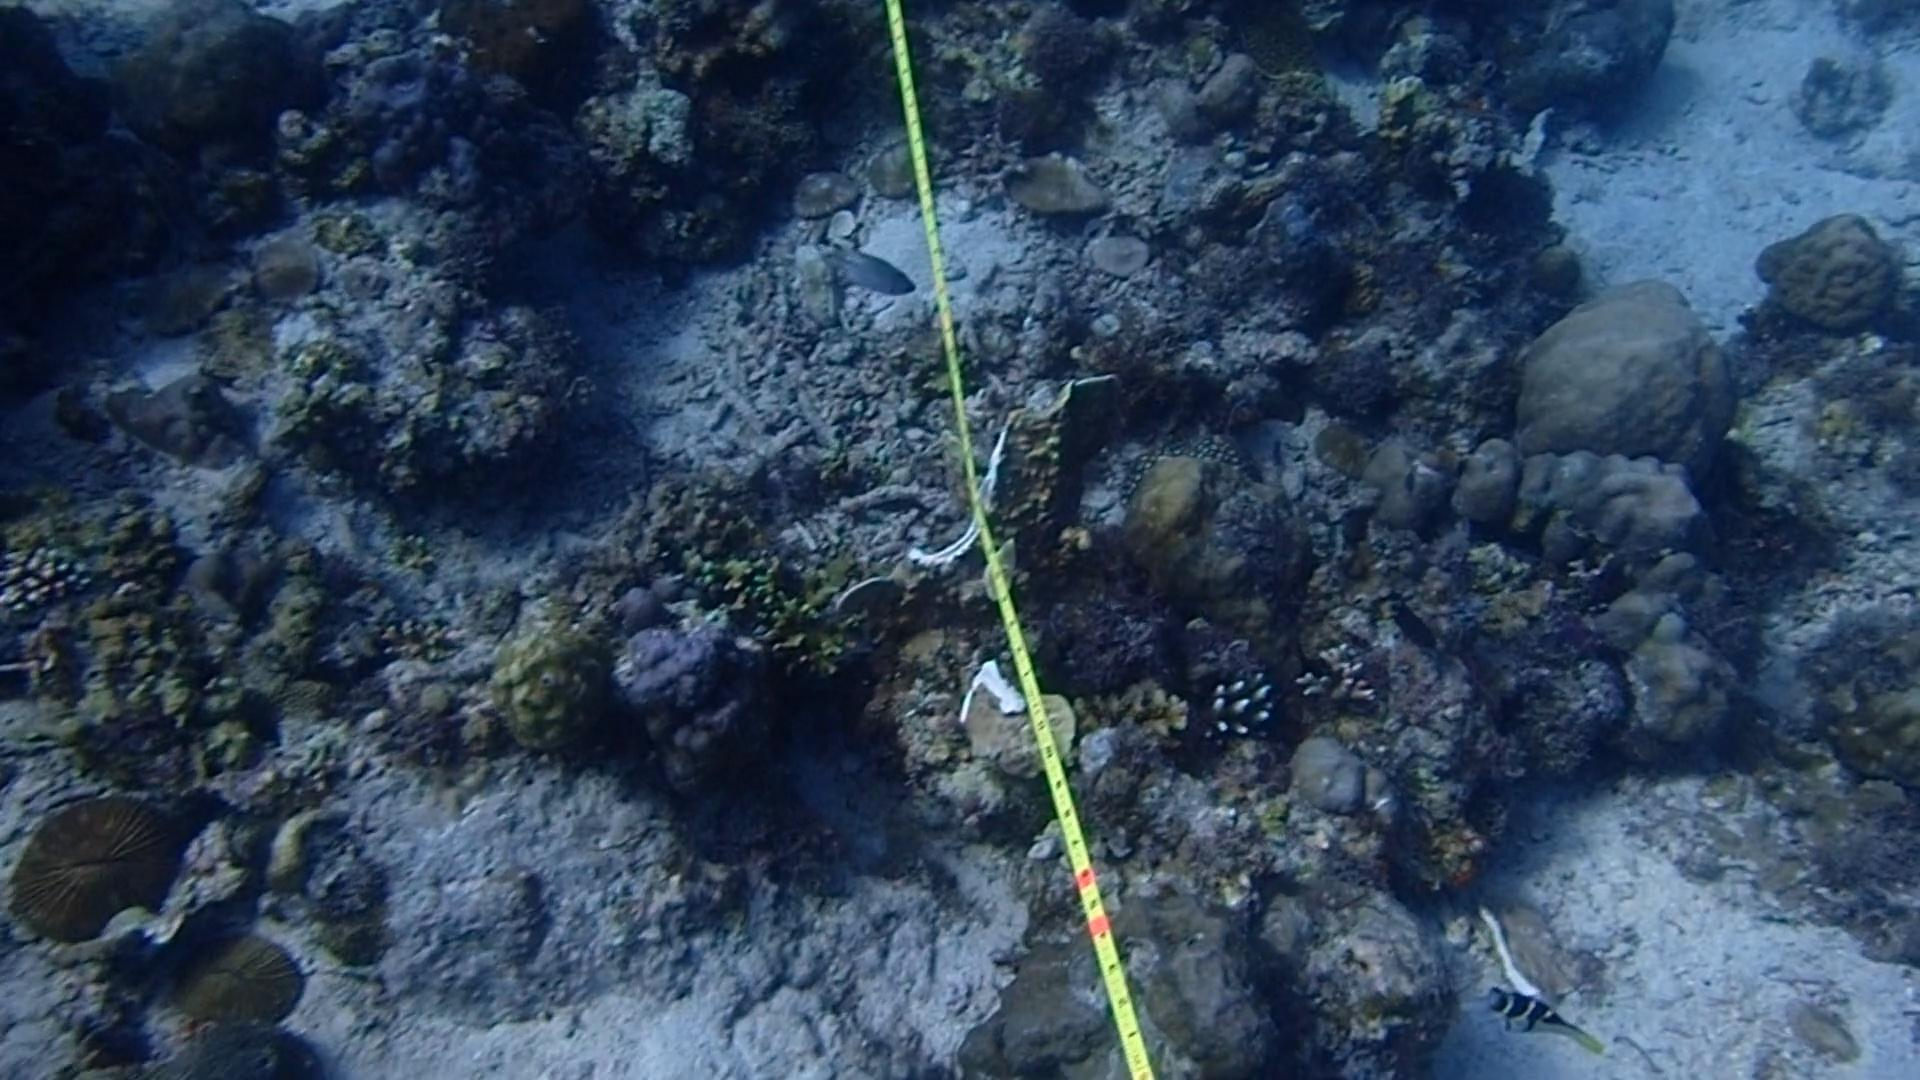Striped Fish: (1470, 973, 1604, 1062)
